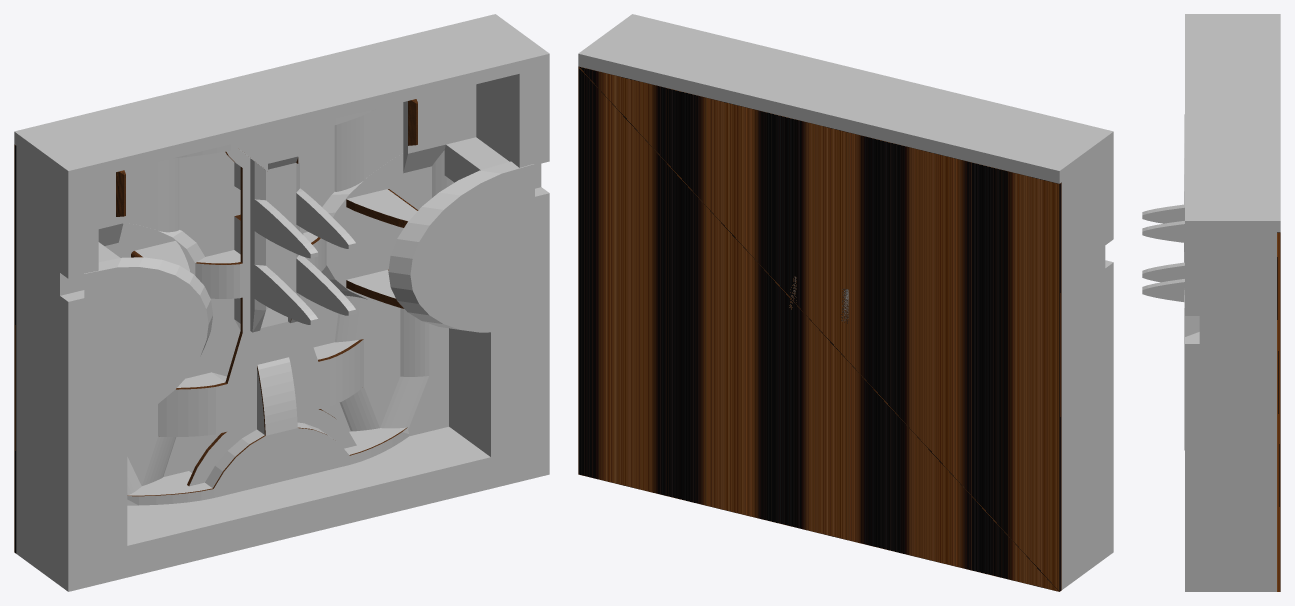
File: station.obj
3 renders of one model, left to right at view 1: azimuth 30°, elevation 25°; view 2: azimuth 150°, elevation 25°; view 3: azimuth 270°, elevation 25°, orthographic. The views are drawn at different scales.
Visible parts, largest first — view 1: Cube.000; view 2: Cube.000; view 3: Cube.000.
Part boxes in pixels (bbox=[...]): Cube.000: bbox=[14, 14, 549, 591]; Cube.000: bbox=[578, 14, 1113, 591]; Cube.000: bbox=[1142, 14, 1280, 591].
Size of the model in its own units: 31.78 by 26.55 by 8.98.
